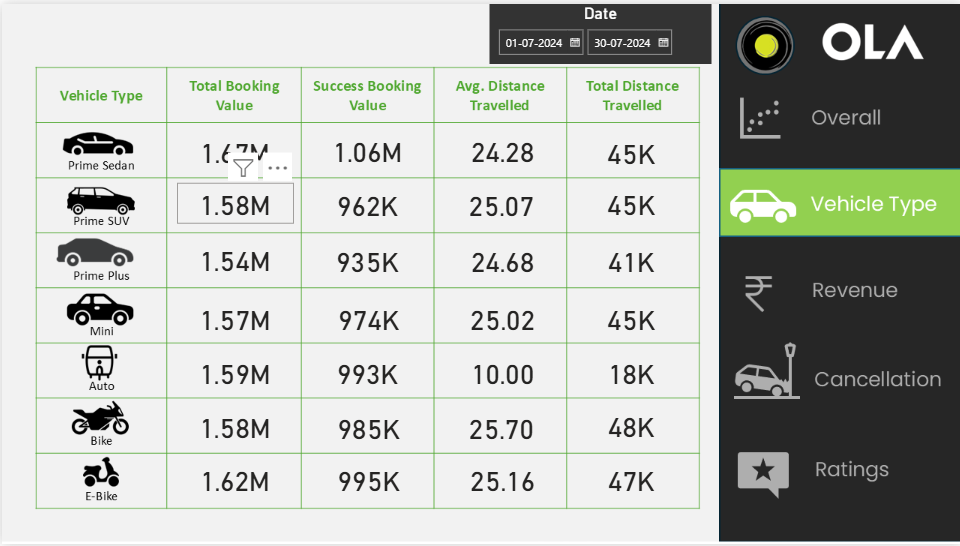

The page's visual inventory and layout, read from the dashboard file:
{"tool":"powerbi","page":{"name":"Vehicle Type","canvas":[1280,720],"ordinal":1},"visuals":[{"type":"actionButton","box":[955.5,222,324.5,89.3],"z":0},{"type":"actionButton","box":[955.5,111,324.5,89.3],"z":1000},{"type":"actionButton","box":[955.5,339,324.5,89.3],"z":2000},{"type":"actionButton","box":[955.5,446.4,324.5,89.3],"z":3000},{"type":"actionButton","box":[955.5,579.1,324.5,89.3],"z":4000},{"type":"card","fields":{"Values":["Sum(bookings.Booking_Value)"]},"box":[233.8,167.5,155,55],"z":5000},{"type":"card","fields":{"Values":["Sum(bookings.Booking_Value)"]},"box":[233.8,238.8,155,55],"z":6000},{"type":"card","fields":{"Values":["Sum(bookings.Booking_Value)"]},"box":[233.8,312.5,155,55],"z":7000},{"type":"card","fields":{"Values":["Sum(bookings.Booking_Value)"]},"box":[233.8,391.2,155,55],"z":8000},{"type":"card","fields":{"Values":["Sum(bookings.Booking_Value)"]},"box":[233.8,463.8,155,55],"z":9000},{"type":"card","fields":{"Values":["Sum(bookings.Booking_Value)"]},"box":[233.8,535,155,55],"z":10000},{"type":"card","fields":{"Values":["Sum(bookings.Booking_Value)"]},"box":[233.2,607.3,155,54],"z":11000},{"type":"card","fields":{"Values":["Sum(bookings.Booking_Value)"]},"box":[409.6,167.8,155,54],"z":12000},{"type":"card","fields":{"Values":["Sum(bookings.Booking_Value)"]},"box":[409.6,240.4,155,54],"z":13000},{"type":"card","fields":{"Values":["Sum(bookings.Booking_Value)"]},"box":[409.6,314.3,155,54],"z":14000},{"type":"card","fields":{"Values":["Sum(bookings.Booking_Value)"]},"box":[411,391.1,155,54],"z":15000},{"type":"card","fields":{"Values":["Sum(bookings.Booking_Value)"]},"box":[409.6,463.6,155,54],"z":16000},{"type":"card","fields":{"Values":["Sum(bookings.Booking_Value)"]},"box":[411,536.2,155,54],"z":17000},{"type":"card","fields":{"Values":["Sum(bookings.Booking_Value)"]},"box":[411,607.3,155,54],"z":18000},{"type":"card","fields":{"Values":["Avg(bookings.Ride_Distance)"]},"box":[590.2,167.8,155,54],"z":19000},{"type":"card","fields":{"Values":["Avg(bookings.Ride_Distance)"]},"box":[588.8,240.4,155,54],"z":20000},{"type":"card","fields":{"Values":["Avg(bookings.Ride_Distance)"]},"box":[590.2,314.3,155,54],"z":21000},{"type":"card","fields":{"Values":["Avg(bookings.Ride_Distance)"]},"box":[590.2,391.1,155,54],"z":22000},{"type":"card","fields":{"Values":["Avg(bookings.Ride_Distance)"]},"box":[590.2,463.6,155,54],"z":23000},{"type":"card","fields":{"Values":["Avg(bookings.Ride_Distance)"]},"box":[588.8,536.2,155,54],"z":24000},{"type":"card","fields":{"Values":["Avg(bookings.Ride_Distance)"]},"box":[590.2,607.3,155,54],"z":25000},{"type":"card","fields":{"Values":["Sum(bookings.Ride_Distance)"]},"box":[760.9,169.2,155,54],"z":26000},{"type":"card","fields":{"Values":["Sum(bookings.Ride_Distance)"]},"box":[760.9,238.9,155,54],"z":27000},{"type":"card","fields":{"Values":["Sum(bookings.Ride_Distance)"]},"box":[760.9,314.3,155,54],"z":28000},{"type":"card","fields":{"Values":["Sum(bookings.Ride_Distance)"]},"box":[760.9,391.1,155,54],"z":29000},{"type":"card","fields":{"Values":["Sum(bookings.Ride_Distance)"]},"box":[760.9,463.6,155,54],"z":30000},{"type":"card","fields":{"Values":["Sum(bookings.Ride_Distance)"]},"box":[760.9,534.8,155,54],"z":31000},{"type":"card","fields":{"Values":["Sum(bookings.Ride_Distance)"]},"box":[760.9,607.3,155,54],"z":32000},{"type":"slicer","title":"Date","fields":{"Values":["bookings.Date"]},"box":[650,0,296,80],"z":33000}]}

Visuals, with their boxes in screenshot pixels (x1, y1, x2, y2), scaled from the page's 1280x720 canvas onto the 960x546 screenshot:
actionButton: [717,168,959,236]
actionButton: [717,84,959,152]
actionButton: [717,257,959,325]
actionButton: [717,339,959,406]
actionButton: [717,439,959,507]
card - Sum(bookings.Booking_Value): [175,127,292,169]
card - Sum(bookings.Booking_Value): [175,181,292,223]
card - Sum(bookings.Booking_Value): [175,237,292,279]
card - Sum(bookings.Booking_Value): [175,297,292,338]
card - Sum(bookings.Booking_Value): [175,352,292,393]
card - Sum(bookings.Booking_Value): [175,406,292,447]
card - Sum(bookings.Booking_Value): [175,461,291,501]
card - Sum(bookings.Booking_Value): [307,127,423,168]
card - Sum(bookings.Booking_Value): [307,182,423,223]
card - Sum(bookings.Booking_Value): [307,238,423,279]
card - Sum(bookings.Booking_Value): [308,297,424,338]
card - Sum(bookings.Booking_Value): [307,352,423,393]
card - Sum(bookings.Booking_Value): [308,407,424,448]
card - Sum(bookings.Booking_Value): [308,461,424,501]
card - Avg(bookings.Ride_Distance): [443,127,559,168]
card - Avg(bookings.Ride_Distance): [442,182,558,223]
card - Avg(bookings.Ride_Distance): [443,238,559,279]
card - Avg(bookings.Ride_Distance): [443,297,559,338]
card - Avg(bookings.Ride_Distance): [443,352,559,393]
card - Avg(bookings.Ride_Distance): [442,407,558,448]
card - Avg(bookings.Ride_Distance): [443,461,559,501]
card - Sum(bookings.Ride_Distance): [571,128,687,169]
card - Sum(bookings.Ride_Distance): [571,181,687,222]
card - Sum(bookings.Ride_Distance): [571,238,687,279]
card - Sum(bookings.Ride_Distance): [571,297,687,338]
card - Sum(bookings.Ride_Distance): [571,352,687,393]
card - Sum(bookings.Ride_Distance): [571,406,687,447]
card - Sum(bookings.Ride_Distance): [571,461,687,501]
"Date" slicer: [488,0,710,61]
